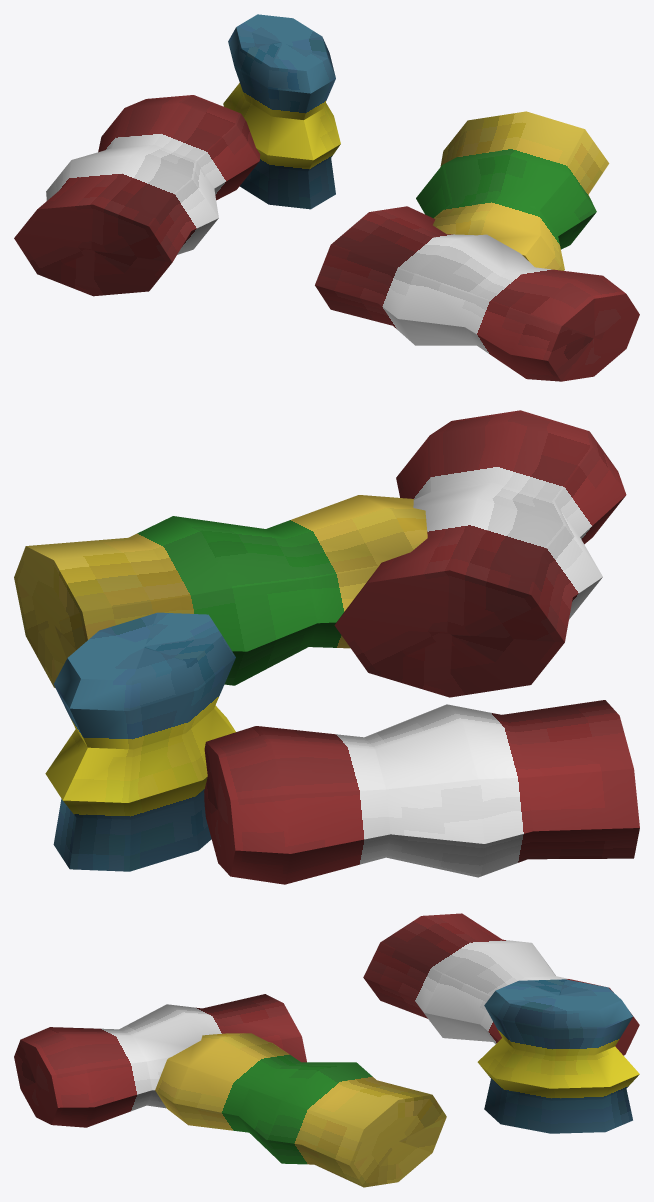
File: crushed_cans.glb
3 views of the same model, one above another, from view 1: azimuth 30°, elevation 25°; view 2: azimuth 150°, elevation 25°; view 3: azimuth 270°, elevation 25° (orthographic). The views are drawn at different scales.
Parts seen in each view (by area): view 1: crushed_cans; view 2: crushed_cans; view 3: crushed_cans.
Boxes of the visible parts, bbox=[...] form: crushed_cans: bbox=[14, 14, 639, 381]; crushed_cans: bbox=[14, 410, 639, 884]; crushed_cans: bbox=[14, 913, 639, 1187].
Bounding box in the file's own units: 0.2365 × 0.0591 × 0.2731.
1 material, 1 textured.
